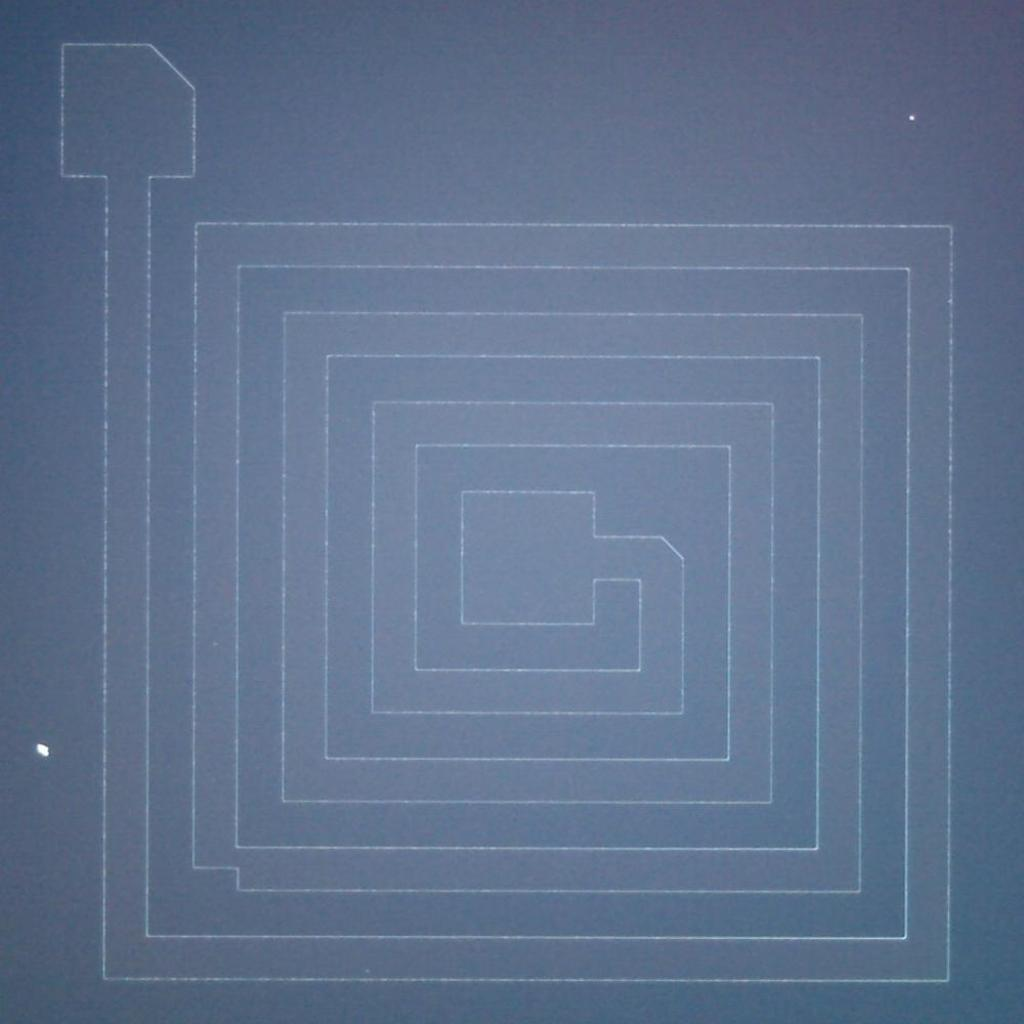dot: (37, 743, 49, 756), (909, 115, 915, 121)
